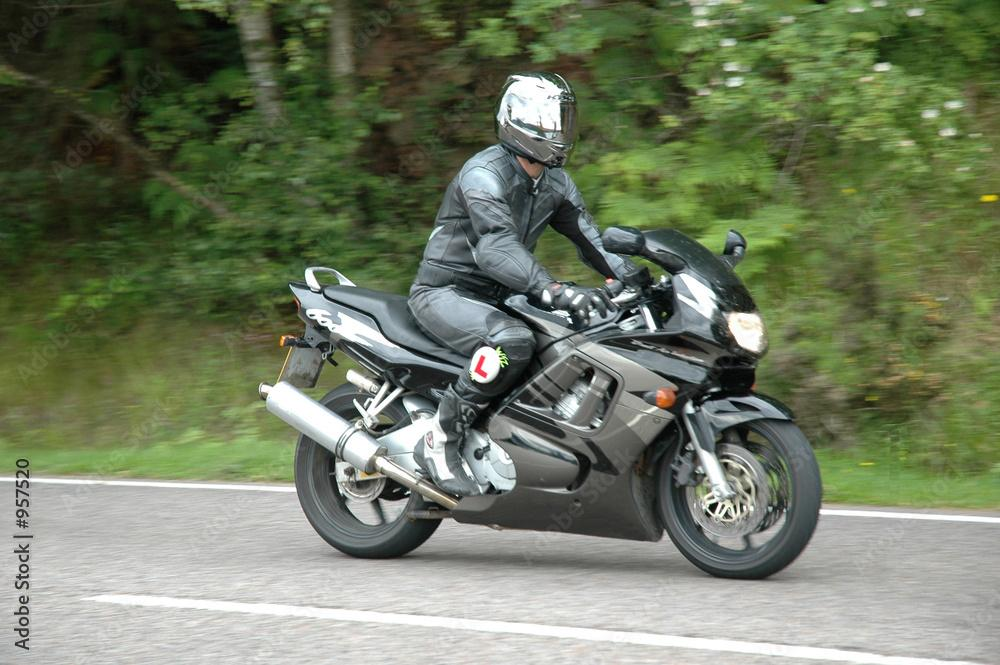helmet: (492, 69, 580, 170)
